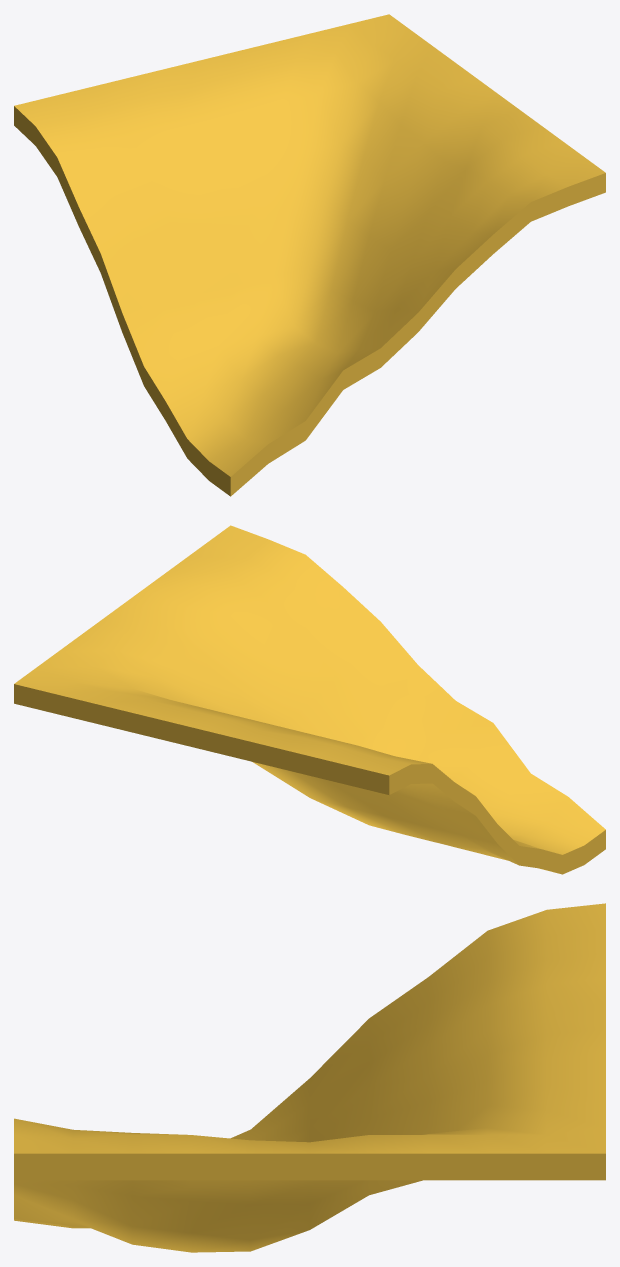
Rendered from Steil - Unten -  Ecke Invertiert a - b.fbx.
3 views of the same model, one above another, from view 1: azimuth 30°, elevation 25°; view 2: azimuth 150°, elevation 25°; view 3: azimuth 270°, elevation 25° (orthographic). The views are drawn at different scales.
Visible parts, largest first — view 1: Steil - Unten - Ecke Invertiert a - b; view 2: Steil - Unten - Ecke Invertiert a - b; view 3: Steil - Unten - Ecke Invertiert a - b.
Part boxes in pixels (<box>): Steil - Unten - Ecke Invertiert a - b: <box>14,14,605,496</box>; Steil - Unten - Ecke Invertiert a - b: <box>14,525,605,874</box>; Steil - Unten - Ecke Invertiert a - b: <box>14,903,605,1252</box>.
Bounding box in the file's own units: 394 × 233 × 394.
